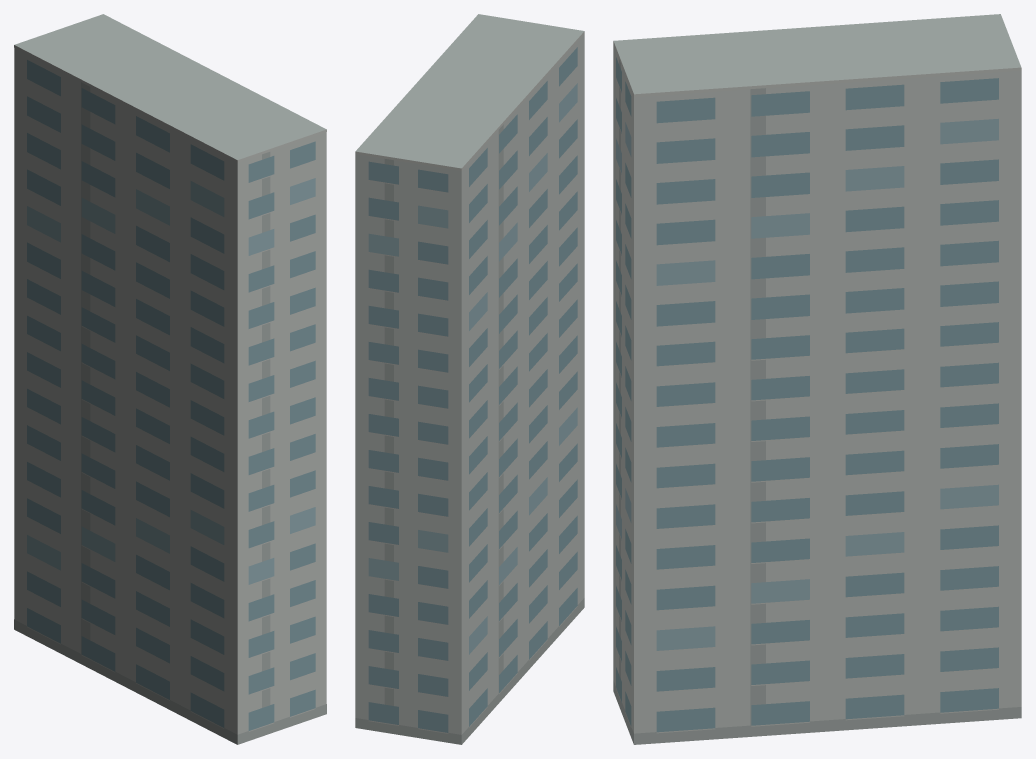
File: residential-fe06f9ea-4f7c-4b56-9805-e4a0547225e9.glb
3 renders of one model, left to right at view 1: azimuth 30°, elevation 25°; view 2: azimuth 150°, elevation 25°; view 3: azimuth 270°, elevation 25°, orthographic. The views are drawn at different scales.
Parts seen in each view (by area): view 1: residential-fe06f9ea-4f7c-4b56-9805-e4a0547225e9.tmp; view 2: residential-fe06f9ea-4f7c-4b56-9805-e4a0547225e9.tmp; view 3: residential-fe06f9ea-4f7c-4b56-9805-e4a0547225e9.tmp.
Boxes of the visible parts, left/top/right/bottom form: residential-fe06f9ea-4f7c-4b56-9805-e4a0547225e9.tmp: left=14, top=14, right=326, bottom=744; residential-fe06f9ea-4f7c-4b56-9805-e4a0547225e9.tmp: left=355, top=14, right=584, bottom=744; residential-fe06f9ea-4f7c-4b56-9805-e4a0547225e9.tmp: left=613, top=14, right=1021, bottom=744.
Size of the model in its own units: 14.3 by 54 by 30.7.
